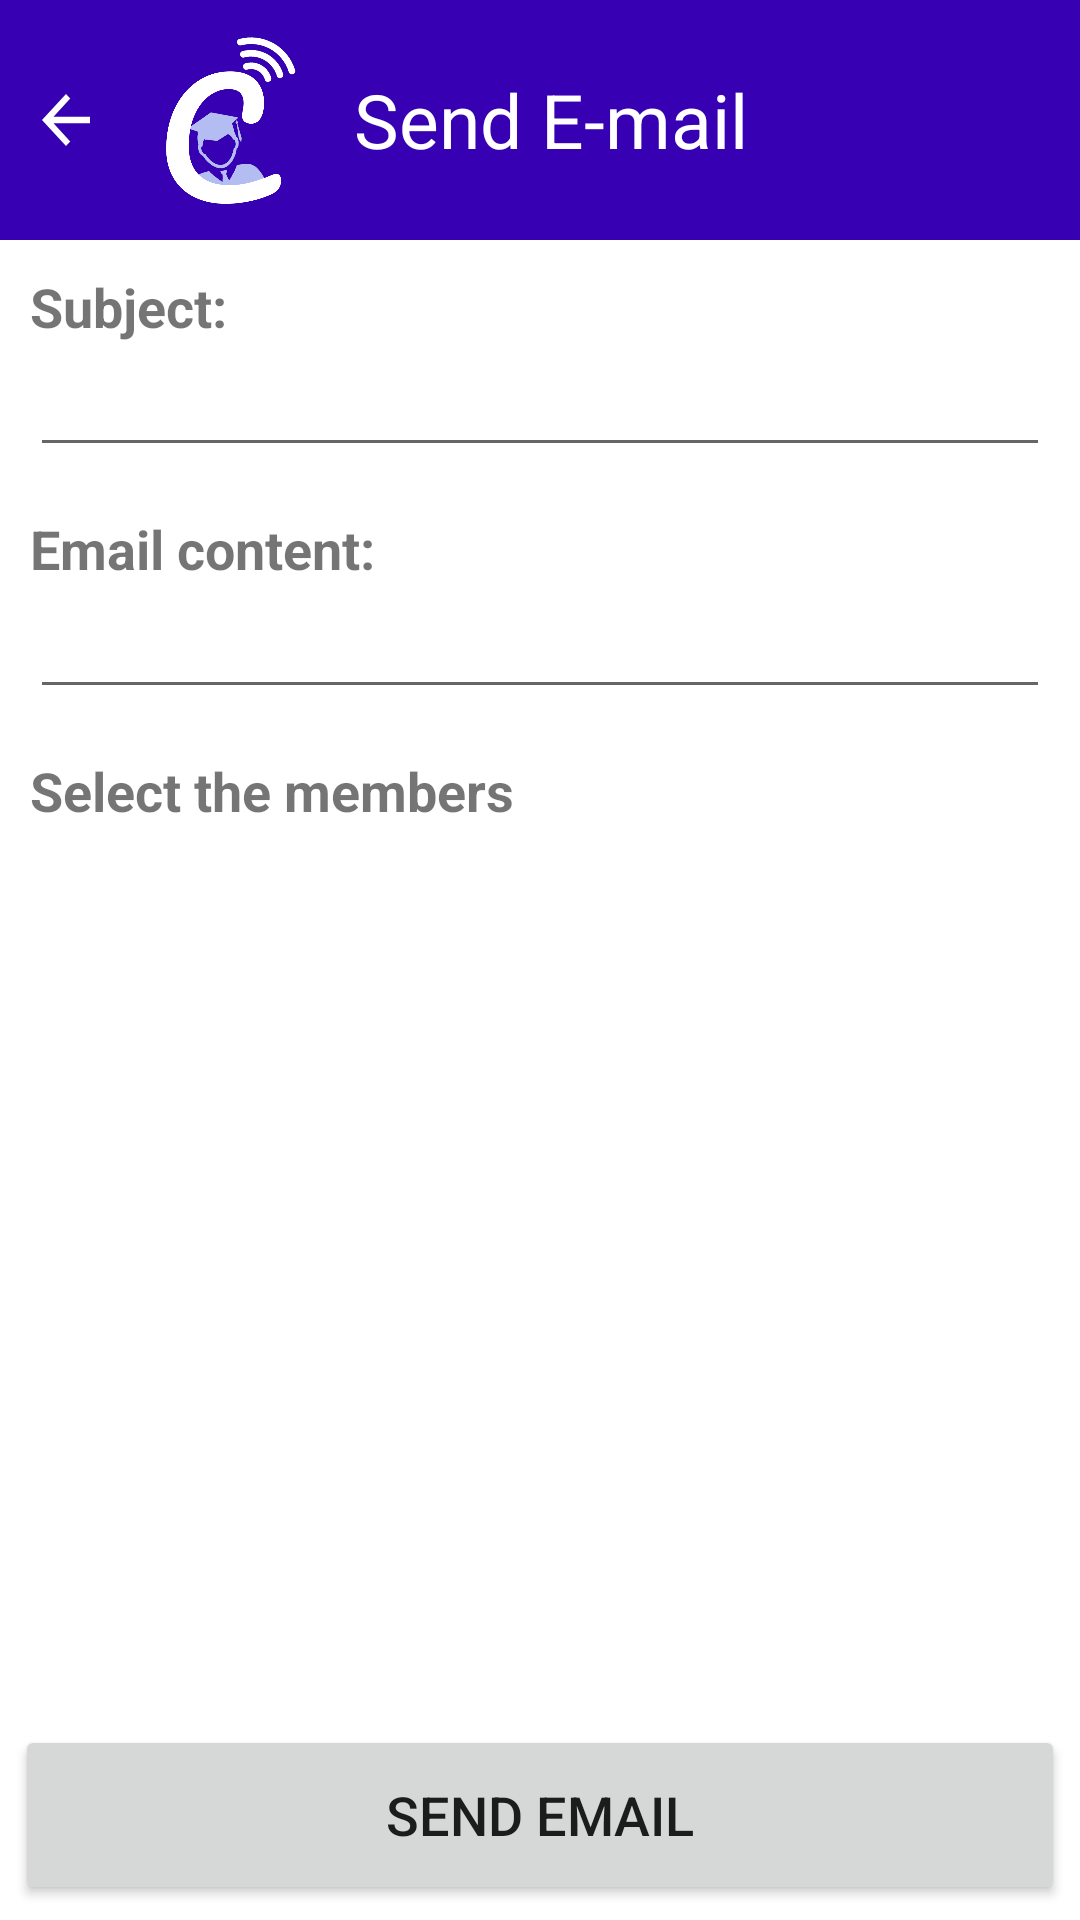

Icons on this 1080px×1920px Android screen, each with the point to tap as (x,y):
back: (66,120)
